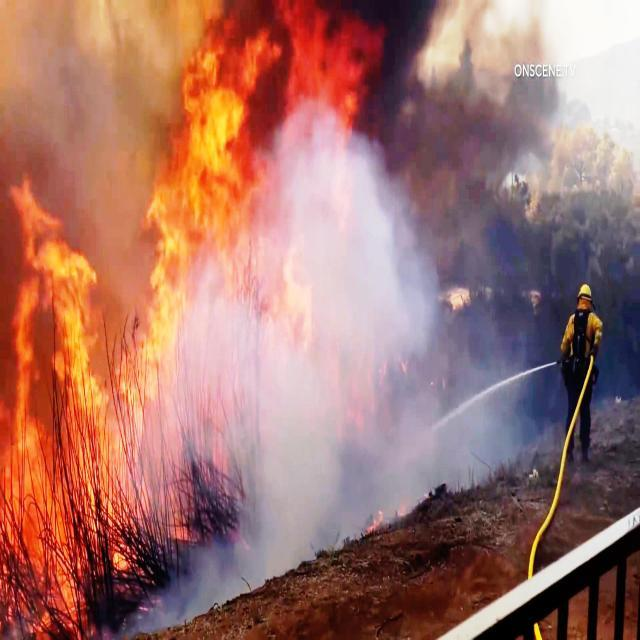Fire: (2, 167, 192, 515), (195, 0, 308, 347), (305, 6, 373, 125)
Smoke: (4, 3, 168, 163), (377, 10, 507, 174)
